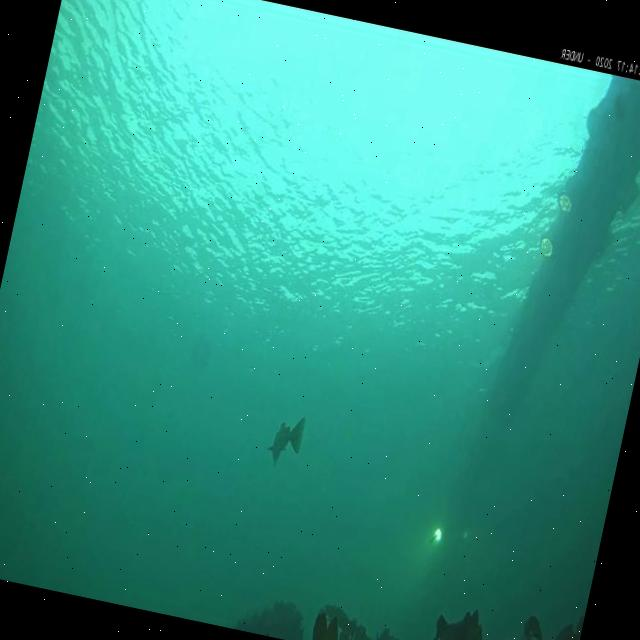fish: (264, 410, 308, 472)
